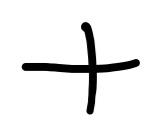plus: (19, 23, 141, 115)
